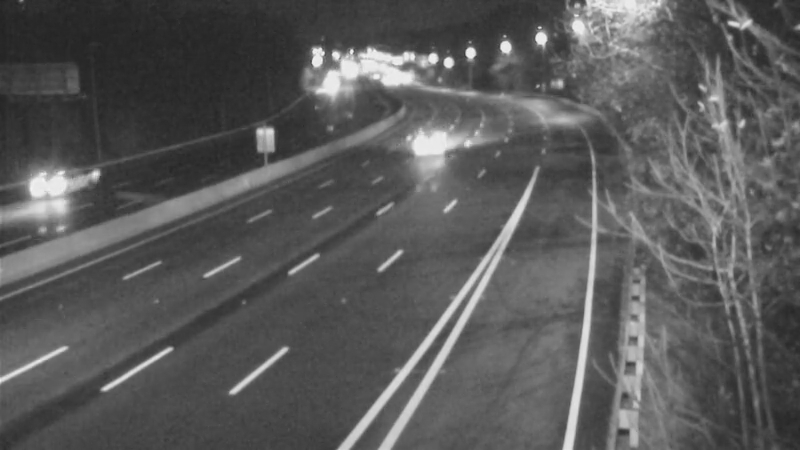vehicle: (4, 146, 84, 226), (399, 116, 449, 166)
